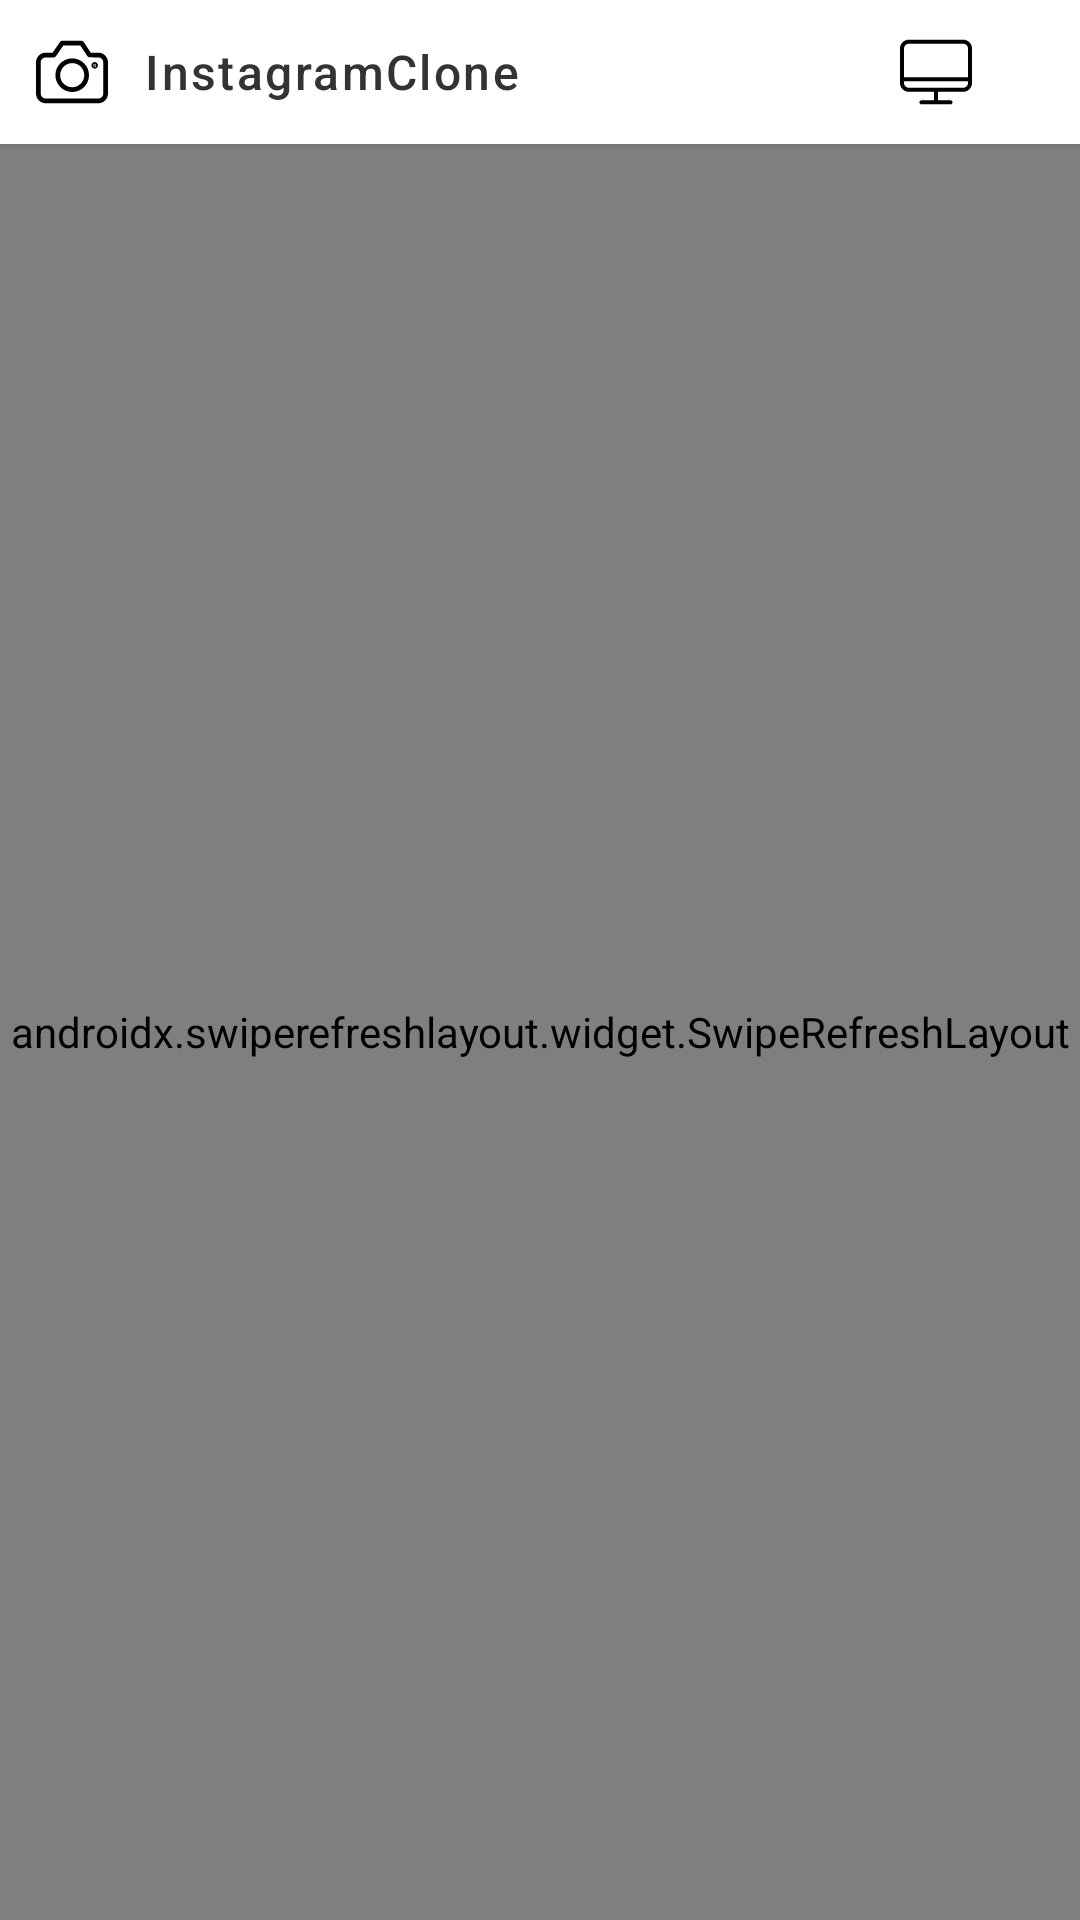

Icons on this 1080w x 1920h Android screen, each with its box as (x1, y1, x2, y2):
camera: (36, 40, 108, 104)
monitor: (900, 39, 972, 105)
